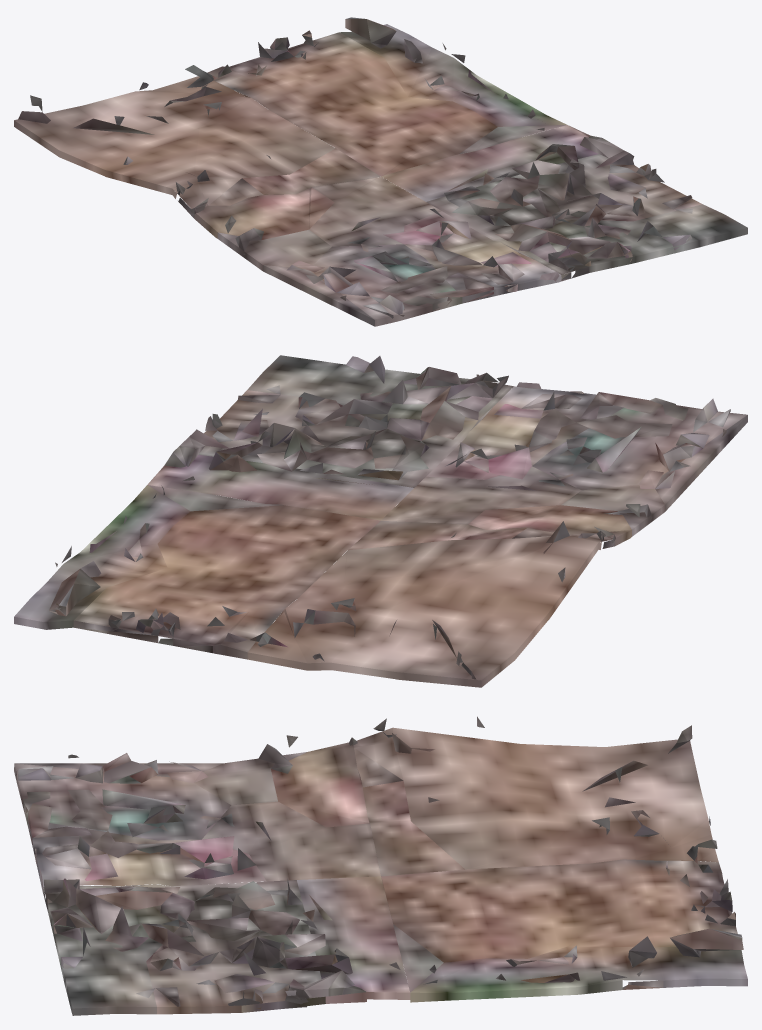
3 views of the same model, one above another, from view 1: azimuth 30°, elevation 25°; view 2: azimuth 150°, elevation 25°; view 3: azimuth 270°, elevation 25° (orthographic). The views are drawn at different scales.
Parts seen in each view (by area): view 1: Mesh_0; view 2: Mesh_0; view 3: Mesh_0.
Part boxes in pixels (<box>): Mesh_0: <box>14,17,747,326</box>; Mesh_0: <box>14,355,747,687</box>; Mesh_0: <box>14,716,747,1015</box>.
Size of the model in its own units: 532 by 69.24 by 659.
Materials: 1 (1 with a texture image).
